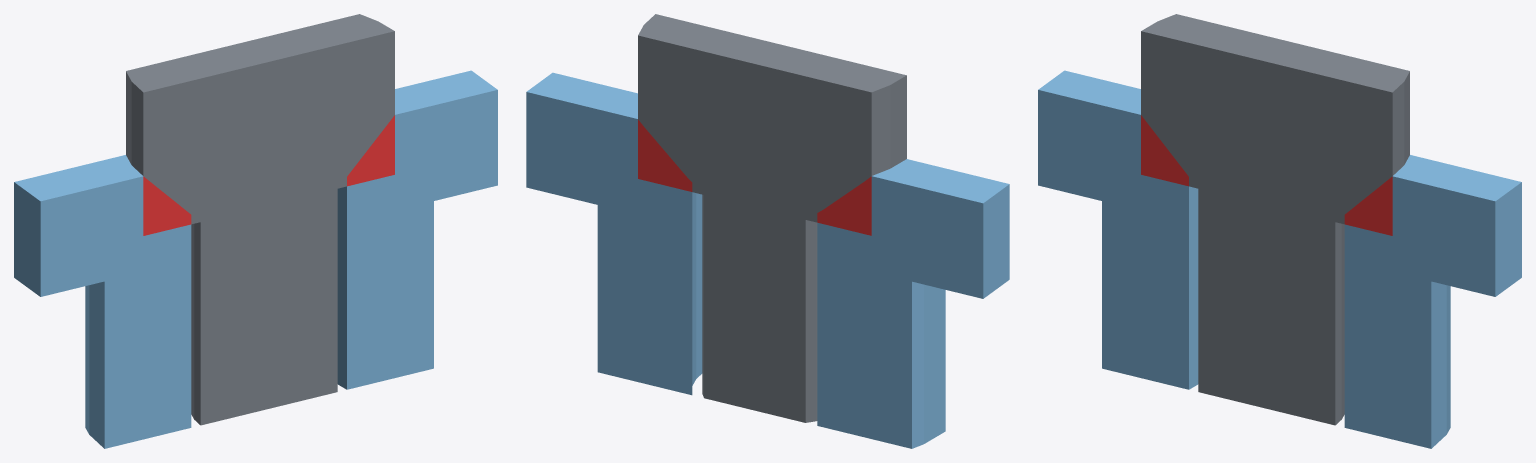
File: socket-cap-rejects-countersink.actual.glb
The picture shows the model from 3 angles, left to right: view 1: azimuth 30°, elevation 25°; view 2: azimuth 150°, elevation 25°; view 3: azimuth 330°, elevation 25°; orthographic projection.
Parts seen in each view (by area): view 1: EN1.H1.screw, lid, intersection-highlight; view 2: lid, EN1.H1.screw, intersection-highlight; view 3: EN1.H1.screw, lid, intersection-highlight.
Part boxes in pixels (x1,y1,x2,y2): EN1.H1.screw: (126,14,394,425); lid: (14,70,497,448); intersection-highlight: (143,115,394,235); lid: (526,72,1009,448); EN1.H1.screw: (638,14,906,422); intersection-highlight: (638,119,871,235); EN1.H1.screw: (1141,14,1409,425); lid: (1038,70,1521,448); intersection-highlight: (1141,115,1392,235).
Size of the model in its own units: 10 by 7.25 by 1.
